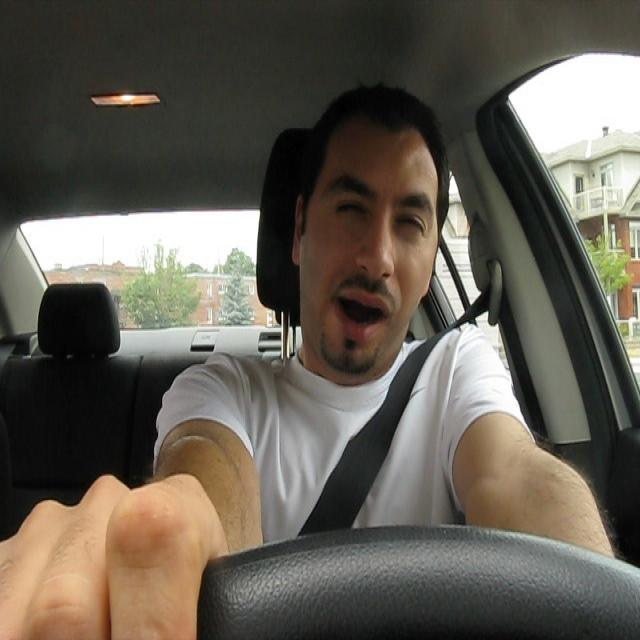Eyeclosed: (396, 207, 426, 245), (336, 194, 368, 225)
